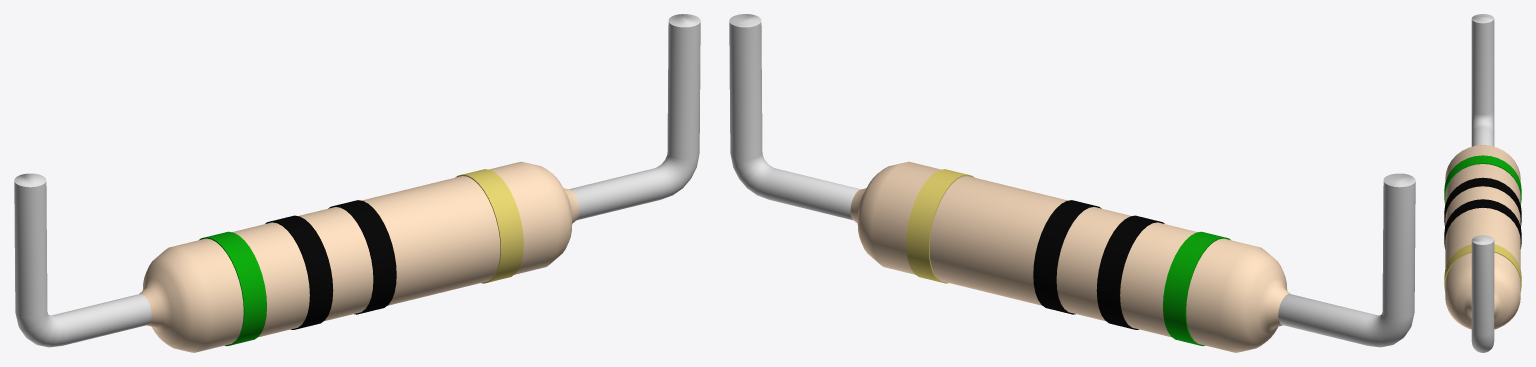
3 views of the same model, side by side, from view 1: azimuth 30°, elevation 25°; view 2: azimuth 150°, elevation 25°; view 3: azimuth 270°, elevation 25° (orthographic). The views are drawn at different scales.
Visible parts, largest first — view 1: RBody, Pin2, Pin1, Band3, Band1, Band2, Band4; view 2: RBody, Pin2, Pin1, Band3, Band1, Band2, Band4; view 3: RBody, Pin2, Pin1, Band2, Band3, Band1, Band4.
Boxes of the visible parts, box(x1,y1,x2,y2) form: RBody: box(139, 161, 579, 352); Pin2: box(14, 173, 151, 347); Pin1: box(569, 14, 700, 220); Band3: box(328, 200, 396, 314); Band1: box(199, 231, 266, 346); Band2: box(265, 215, 333, 329); Band4: box(455, 169, 523, 283); RBody: box(850, 161, 1290, 352); Pin2: box(1278, 173, 1415, 347); Pin1: box(729, 14, 860, 220); Band3: box(1033, 200, 1101, 314); Band1: box(1163, 231, 1230, 346); Band2: box(1096, 215, 1164, 329); Band4: box(906, 169, 974, 283); RBody: box(1445, 145, 1520, 329); Pin2: box(1471, 14, 1494, 146); Pin1: box(1471, 235, 1494, 352); Band2: box(1444, 177, 1521, 226); Band3: box(1444, 199, 1521, 248); Band1: box(1444, 155, 1521, 204); Band4: box(1444, 244, 1521, 291).
Size of the model in its own units: 1074 by 312 by 152.
